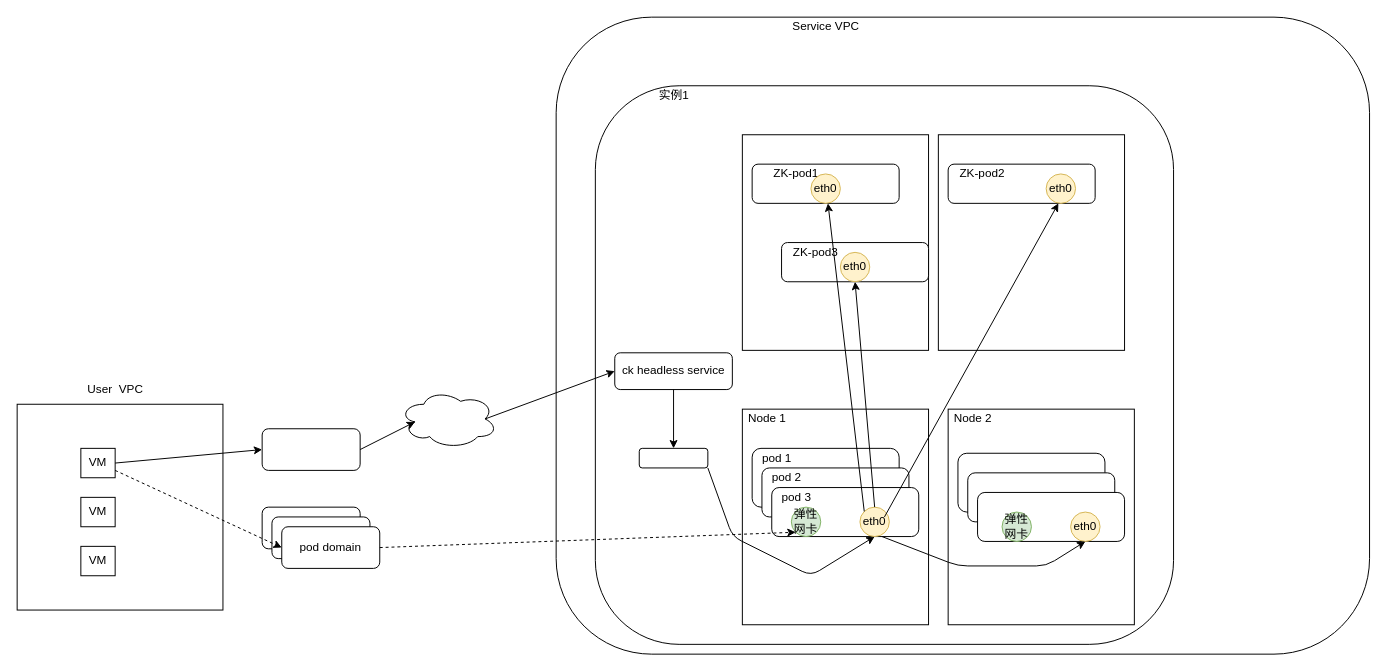
This 1387x671 diagram has some shape labels left out. Each missing label, with the box of its shape:
endpoints: (638, 447, 708, 468)
LB Service IP: (398, 389, 497, 448)
service domain: (261, 428, 360, 470)
